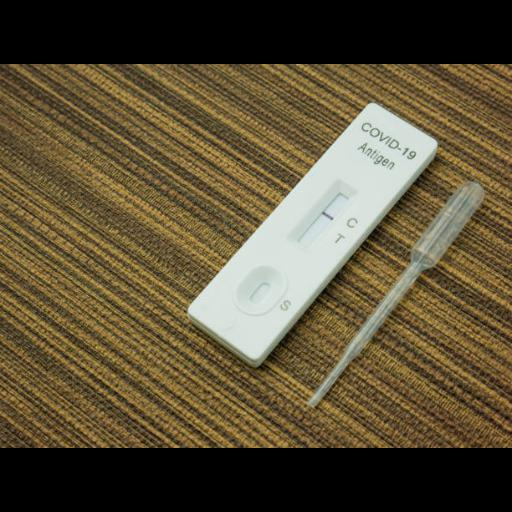Neg: (186, 100, 440, 363)
